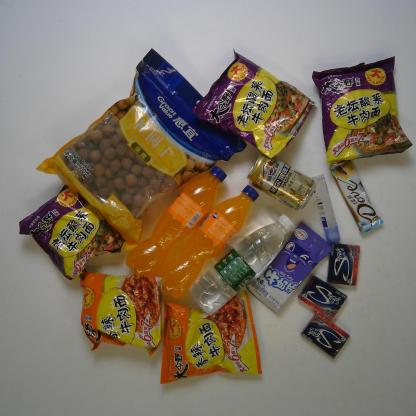Alcohol: (246, 153, 317, 212)
Candy: (245, 221, 335, 315)
Chocolate: (329, 160, 385, 235)
Dried Food: (34, 47, 248, 253)
Drink: (153, 183, 261, 300), (125, 165, 227, 279), (187, 213, 296, 315)
Gum: (300, 310, 351, 360), (297, 273, 349, 322), (326, 242, 360, 287)
Instant Noodles: (192, 47, 317, 160), (311, 55, 414, 165), (18, 182, 127, 283), (160, 289, 263, 385), (79, 271, 167, 357)
Stationery: (312, 174, 342, 244)
